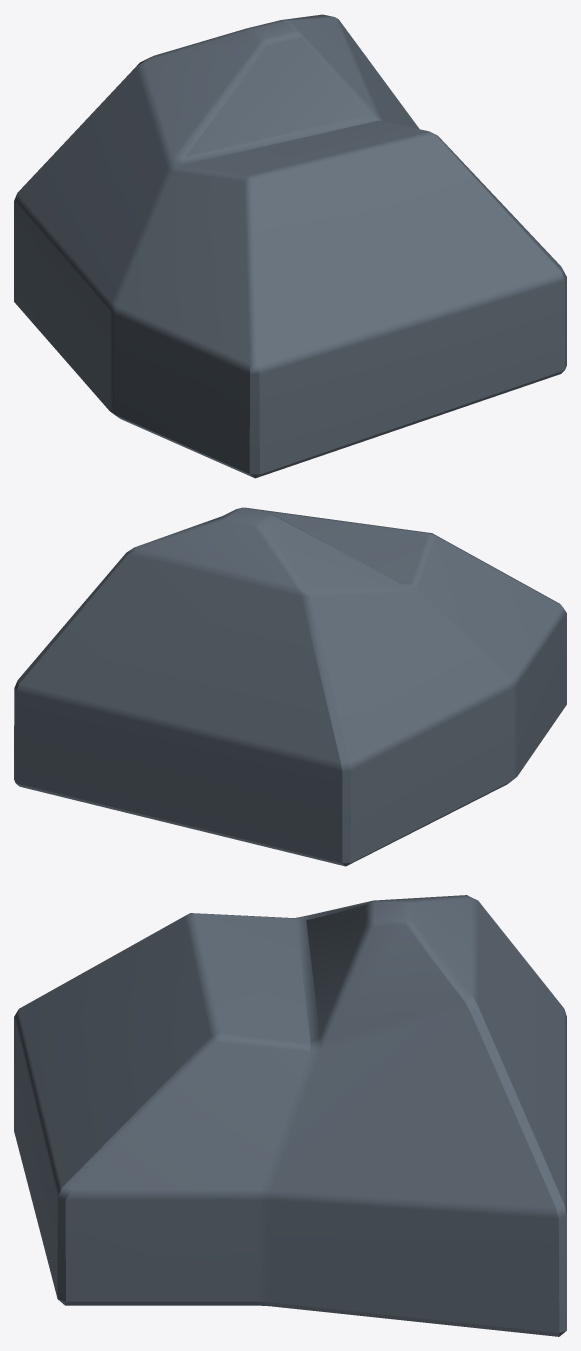
Rendered from Rock_1.fbx.
3 renders of one model, top to bottom at view 1: azimuth 30°, elevation 25°; view 2: azimuth 150°, elevation 25°; view 3: azimuth 270°, elevation 25°, orthographic. The views are drawn at different scales.
Parts seen in each view (by area): view 1: rock1; view 2: rock1; view 3: rock1.
Part boxes in pixels (bbox=[...]): rock1: bbox=[14, 14, 566, 478]; rock1: bbox=[14, 507, 566, 866]; rock1: bbox=[14, 895, 566, 1336].
Bounding box in the file's own units: 1.42 × 0.9514 × 1.45.
